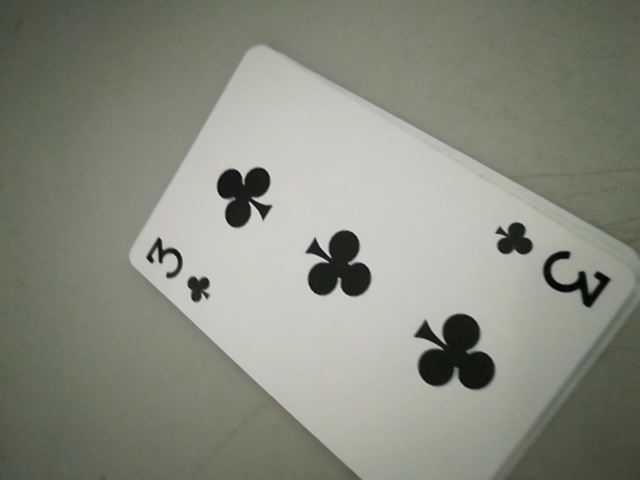mh 3: (491, 219, 613, 320), (134, 234, 214, 309)
